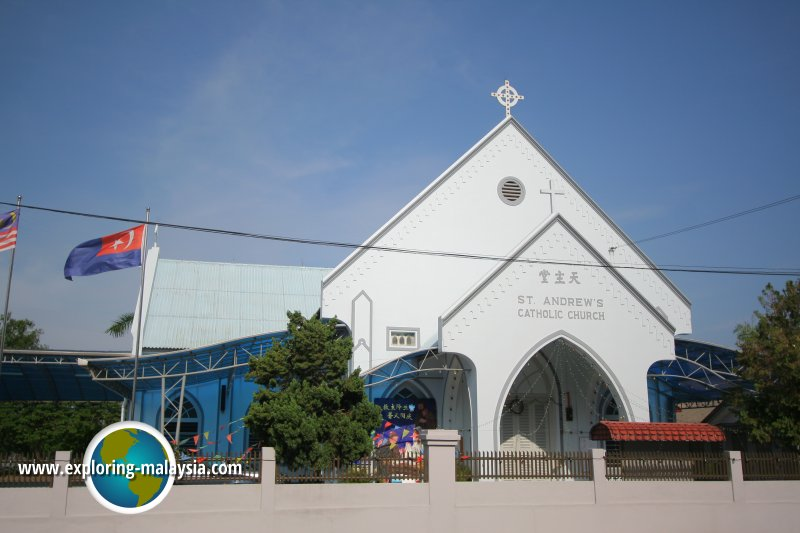Church: (141, 75, 682, 455)
